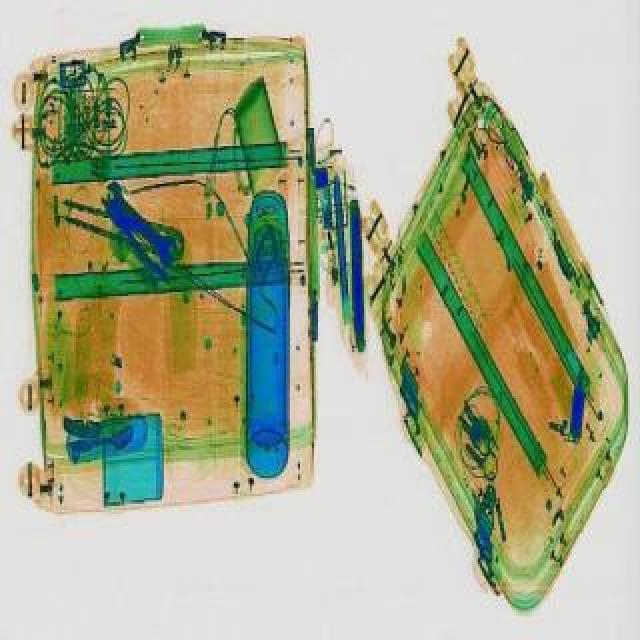scissors: (88, 182, 192, 276)
